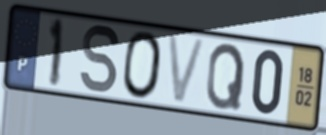0: (249, 47, 286, 117)
1: (45, 16, 65, 90)
O: (121, 29, 165, 102)
Q: (204, 41, 248, 112)
S: (79, 22, 122, 97)
V: (165, 32, 209, 107)
